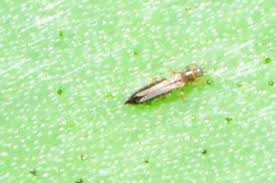Thrips: (116, 57, 216, 111)
